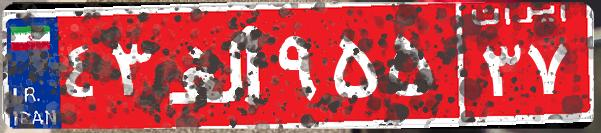3: (475, 38, 525, 113), (110, 28, 158, 105)
4: (57, 26, 110, 107)
5: (385, 28, 445, 110), (330, 28, 385, 110)
7: (525, 38, 570, 115)
9: (273, 28, 330, 110)
الف: (158, 15, 273, 115)
